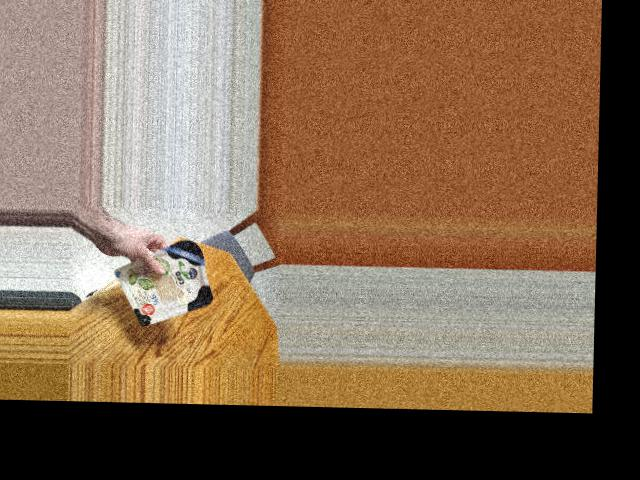cheese: (129, 242, 218, 324)
